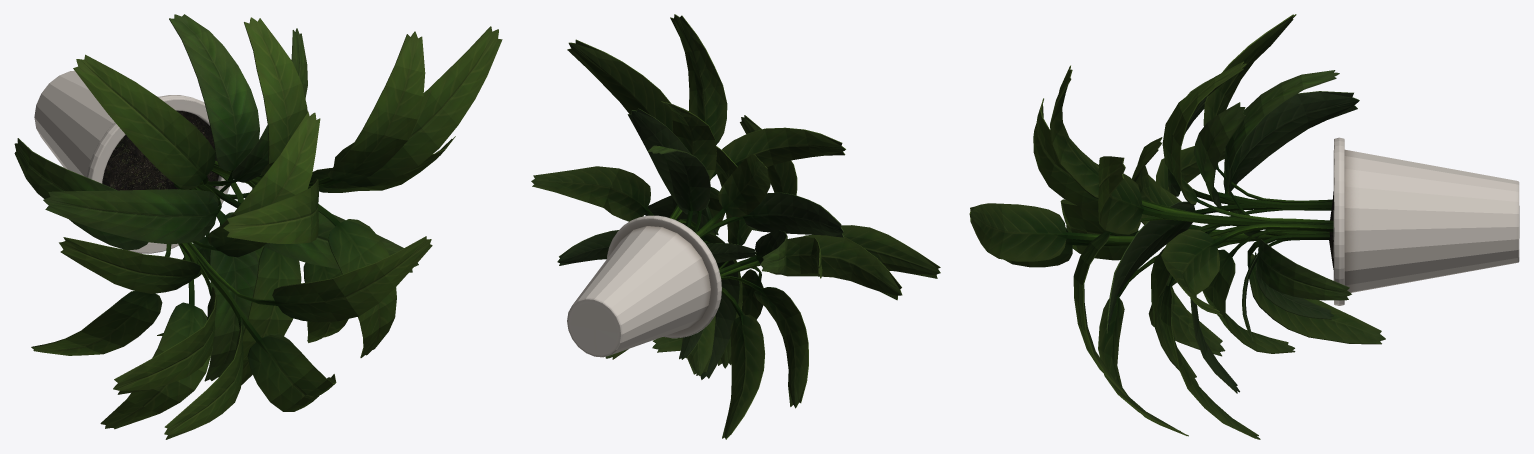
Rendered from floorPlant.obj.
The picture shows the model from 3 angles, left to right: view 1: azimuth 30°, elevation 25°; view 2: azimuth 150°, elevation 25°; view 3: azimuth 270°, elevation 25°; orthographic projection. The views are drawn at different scales.
Visible parts, largest first — view 1: Object.1; view 2: Object.1; view 3: Object.1.
Part boxes in pixels (bbox=[...]): Object.1: bbox=[14, 14, 502, 439]; Object.1: bbox=[531, 14, 940, 439]; Object.1: bbox=[969, 14, 1519, 439].
Size of the model in its own units: 141 by 131 by 165.
1 material, 1 textured.
